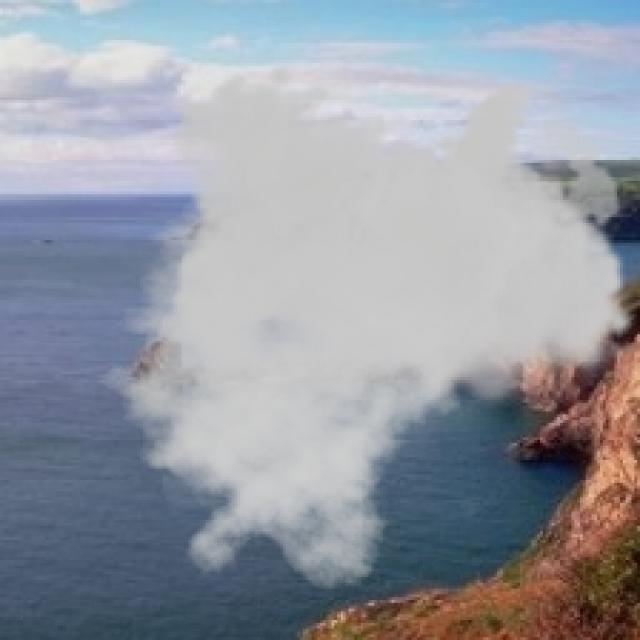smoke: (77, 60, 637, 591)
